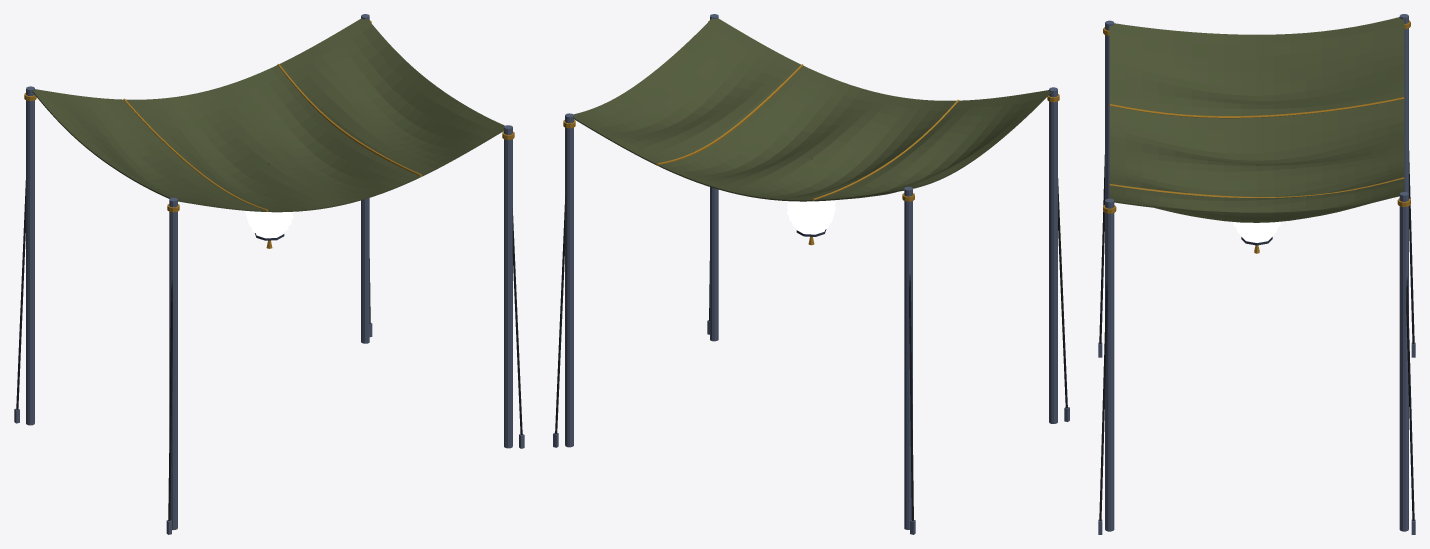
Rendered from bw_targ_tarp_canopy.glb.
The picture shows the model from 3 angles, left to right: view 1: azimuth 30°, elevation 25°; view 2: azimuth 150°, elevation 25°; view 3: azimuth 270°, elevation 25°; orthographic projection. The views are drawn at different scales.
Visible parts, largest first — view 1: binding.002, binding.003, binding.004, binding.001, binding.005; view 2: binding.002, binding.003, binding.004, binding.005, binding.001; view 3: binding.002, binding.003, binding.004, binding.001, binding.005.
Boxes of the visible parts, bbox=[...] form: binding.002: bbox=[32, 18, 504, 212]; binding.003: bbox=[14, 14, 524, 534]; binding.004: bbox=[16, 163, 522, 520]; binding.001: bbox=[24, 20, 514, 248]; binding.005: bbox=[245, 211, 293, 238]; binding.002: bbox=[573, 18, 1051, 201]; binding.003: bbox=[553, 14, 1069, 534]; binding.004: bbox=[555, 158, 1067, 520]; binding.005: bbox=[787, 200, 835, 234]; binding.001: bbox=[563, 20, 1059, 245]; binding.002: bbox=[1109, 17, 1404, 222]; binding.003: bbox=[1098, 14, 1415, 534]; binding.004: bbox=[1099, 151, 1414, 520]; binding.001: bbox=[1103, 20, 1410, 253]; binding.005: bbox=[1233, 221, 1280, 242].
Size of the model in its own units: 4 by 3.6 by 3.
